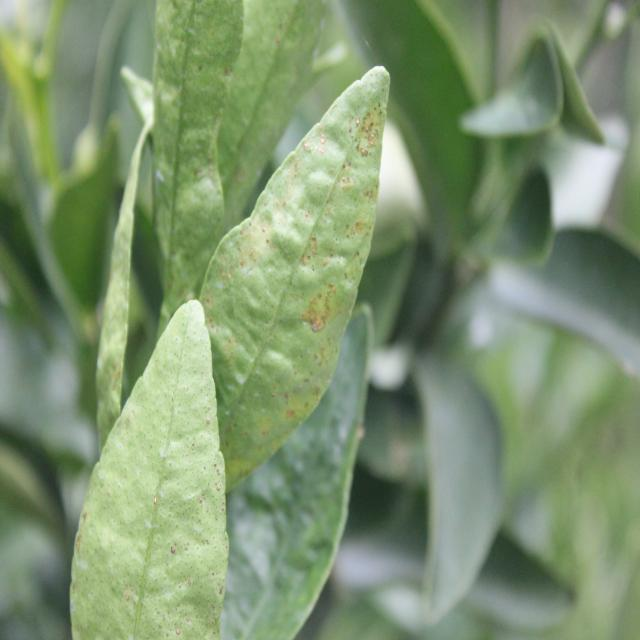canker: (207, 69, 388, 439), (78, 328, 231, 640)
